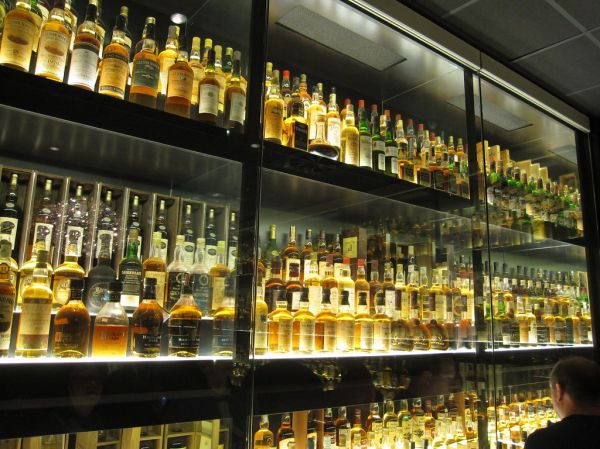unknown_bottle: (15, 244, 54, 358), (67, 1, 105, 92), (97, 5, 132, 101), (52, 279, 91, 359), (128, 17, 160, 111), (167, 279, 202, 359), (130, 276, 163, 359), (91, 286, 129, 358)
